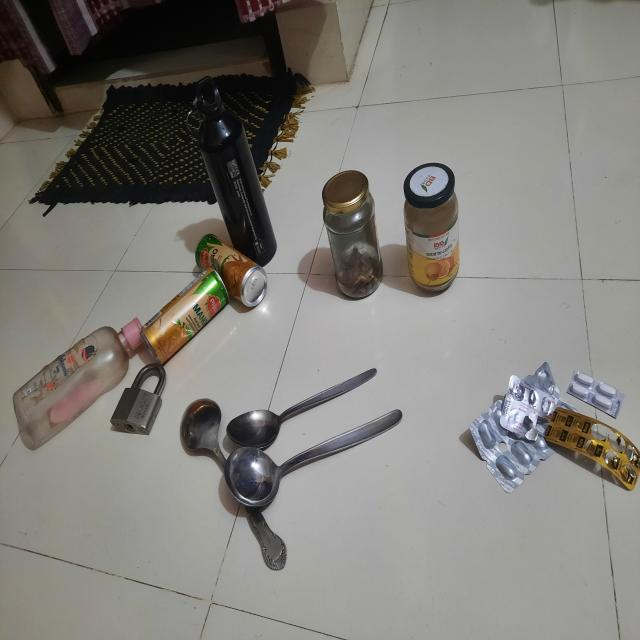Glass: (322, 212, 388, 300), (407, 209, 459, 301)
Medical Waste: (455, 353, 640, 504)
Metal: (188, 364, 406, 557), (116, 369, 169, 444)
Plastics: (14, 314, 119, 419)
can: (184, 79, 283, 320), (406, 157, 454, 202), (325, 166, 376, 204)
